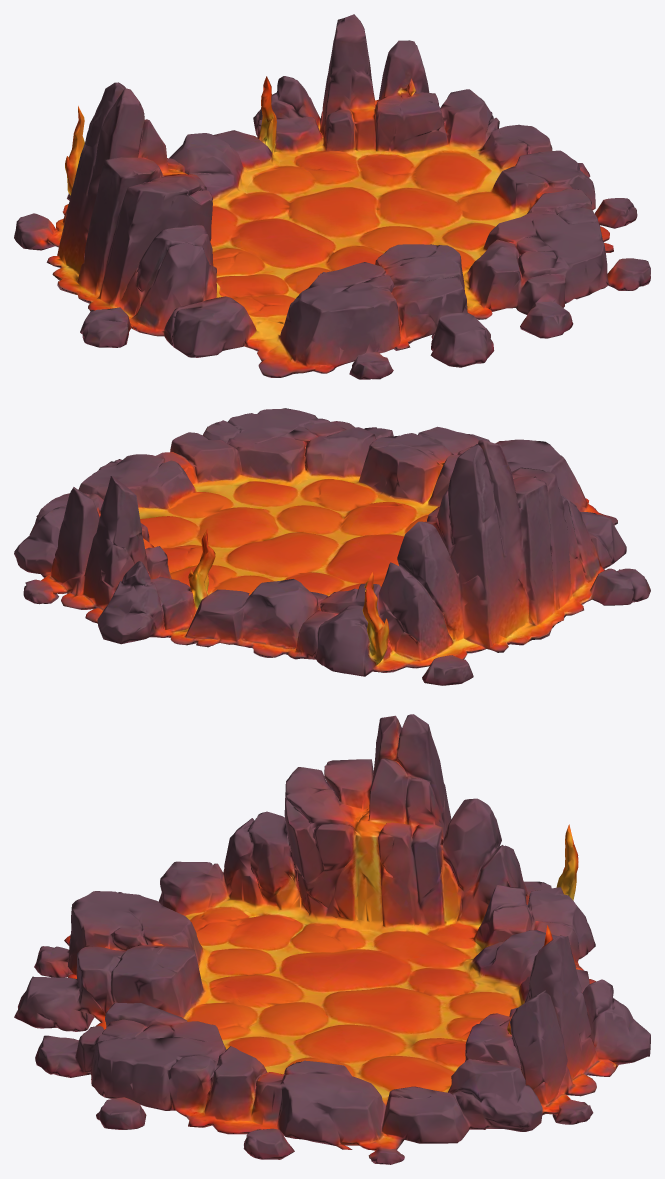
The model's file is lava_pool.glb.
3 renders of one model, top to bottom at view 1: azimuth 30°, elevation 25°; view 2: azimuth 150°, elevation 25°; view 3: azimuth 270°, elevation 25°, orthographic. The views are drawn at different scales.
Parts seen in each view (by area): view 1: tripo_node_32a28fea-5738-45a5-9502-ffe6acc4d5de; view 2: tripo_node_32a28fea-5738-45a5-9502-ffe6acc4d5de; view 3: tripo_node_32a28fea-5738-45a5-9502-ffe6acc4d5de.
Part boxes in pixels (box(x1,y1,x2,y2)): tripo_node_32a28fea-5738-45a5-9502-ffe6acc4d5de: box(14, 14, 650, 379); tripo_node_32a28fea-5738-45a5-9502-ffe6acc4d5de: box(14, 408, 650, 685); tripo_node_32a28fea-5738-45a5-9502-ffe6acc4d5de: box(14, 714, 650, 1164).
Size of the model in its own units: 0.978 by 0.3208 by 0.8862.
1 material, 1 textured.
